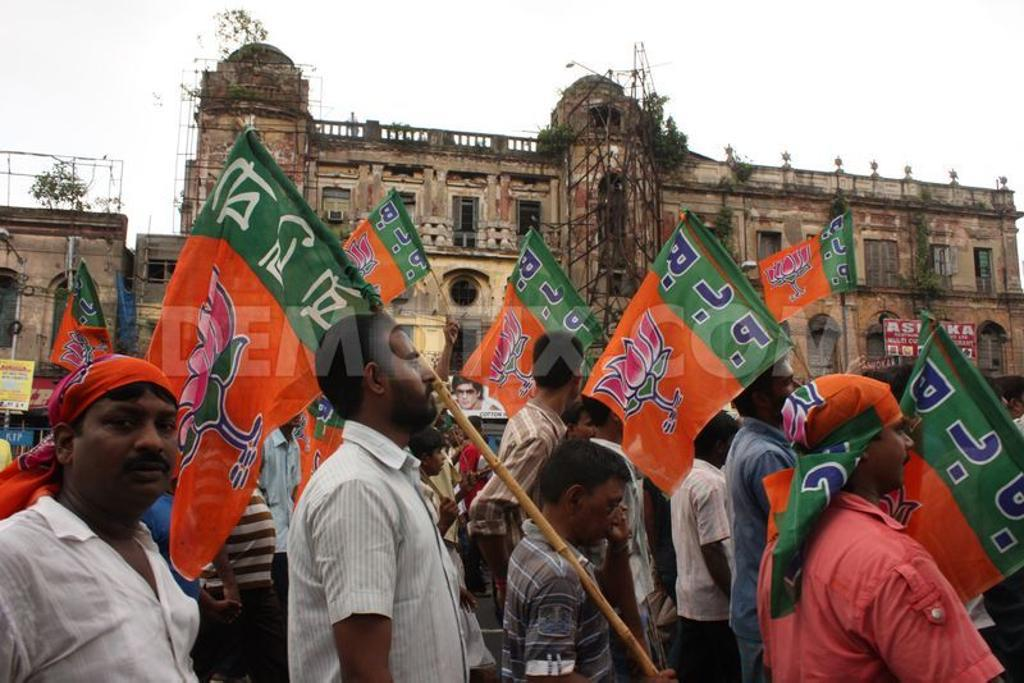face: (77, 391, 179, 498), (378, 327, 439, 418), (864, 405, 916, 486), (580, 466, 621, 544), (764, 363, 805, 417), (599, 484, 631, 537), (724, 425, 744, 464), (577, 414, 599, 446), (428, 442, 446, 476), (457, 381, 477, 408)
